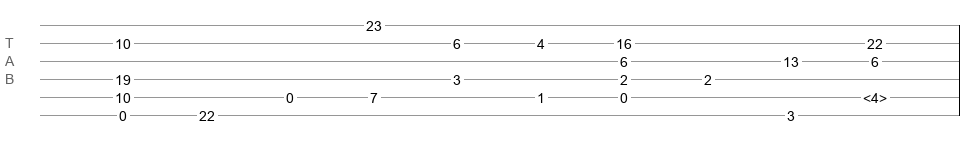0: (119, 108, 127, 118), (286, 90, 294, 100), (620, 90, 628, 100)
1: (537, 90, 545, 100)
10: (115, 36, 131, 46), (115, 90, 131, 100)
13: (783, 54, 799, 64)
16: (616, 36, 632, 46)
19: (115, 72, 131, 82)
2: (620, 72, 628, 82), (704, 72, 712, 82)
22: (199, 108, 215, 118), (867, 36, 883, 46)
23: (366, 18, 382, 28)
3: (453, 72, 461, 82), (787, 108, 795, 118)
4: (537, 36, 545, 46)
6: (453, 36, 461, 46), (620, 54, 628, 64), (871, 54, 879, 64)
7: (370, 90, 378, 100)
harmonic: (863, 90, 887, 100)
